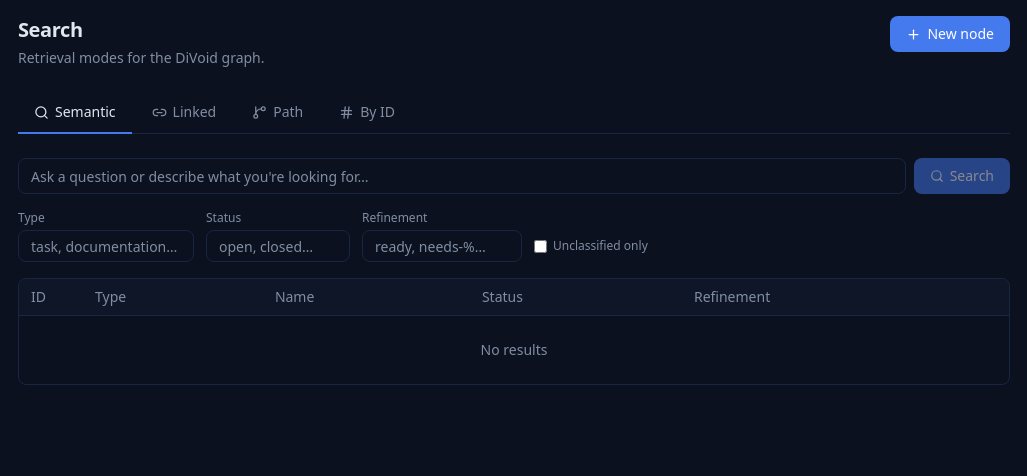
Scenario: SearchPage › linked tab shows neighbours after submitting an id
Click the tab "Linked" at (184,113), box [136,92,232,134]
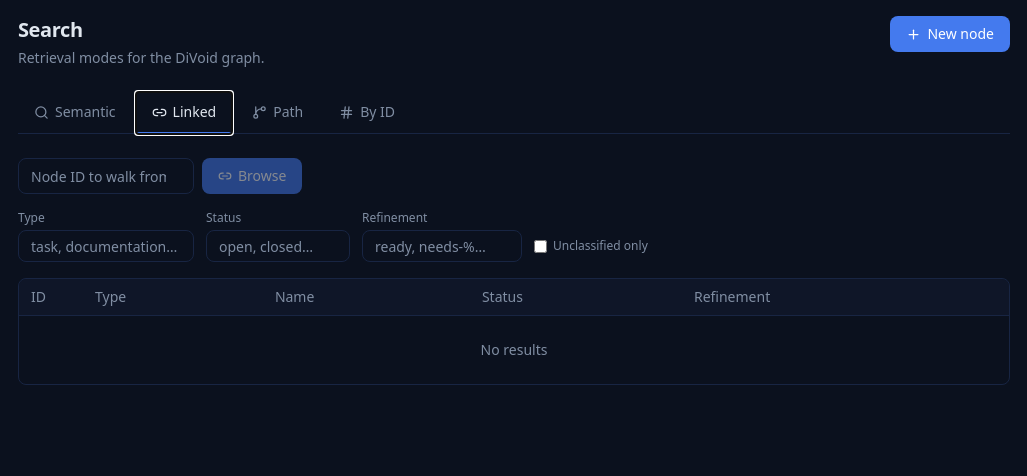
Type "3" into the number field named "anchor node id" at (106,176), box [18,158,194,194]
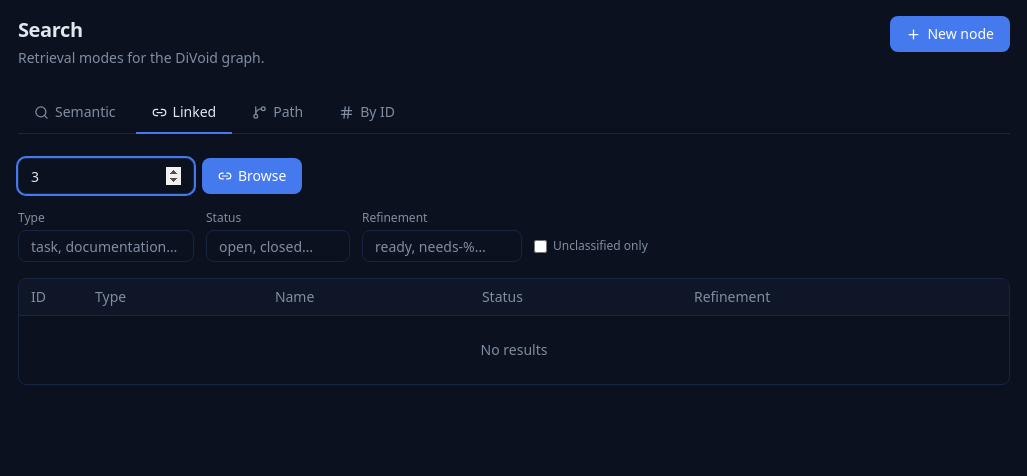
Click the button "Browse" at (252,176), box [202,158,302,194]
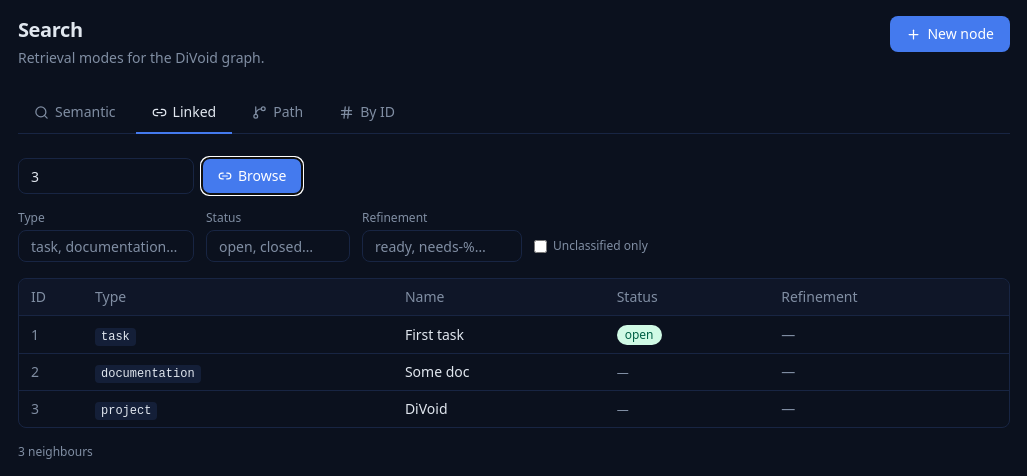
Result: the link "First task" is shown at [405,324,464,344]
